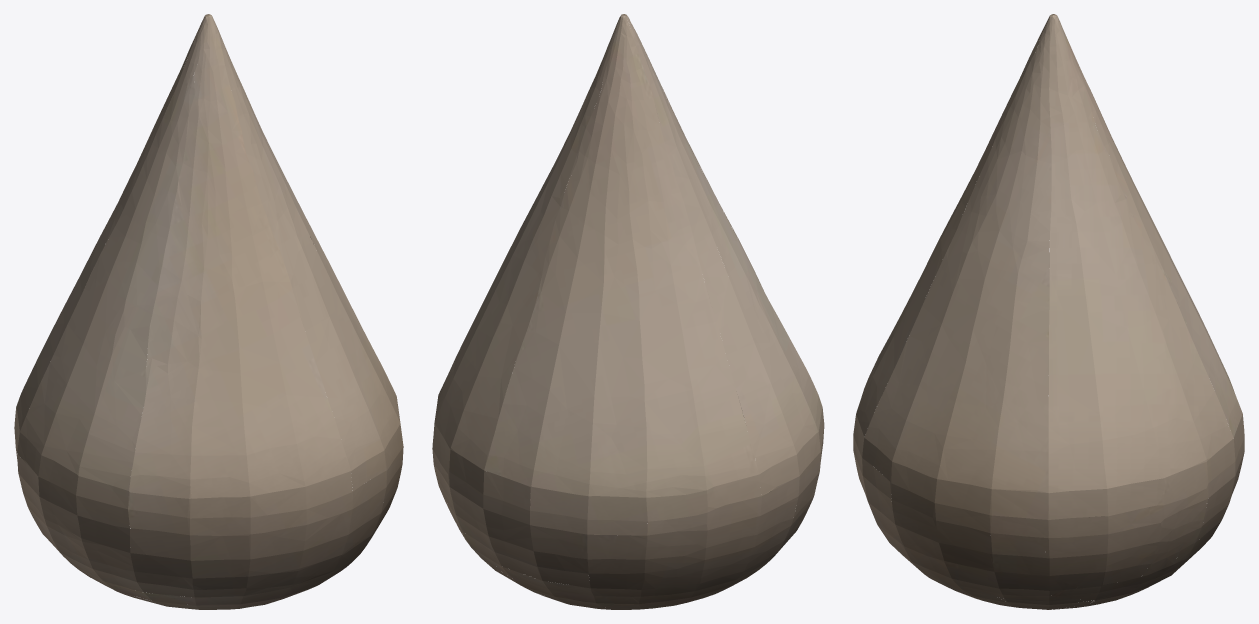
Rendered from vase-drop.glb.
The picture shows the model from 3 angles, left to right: view 1: azimuth 30°, elevation 25°; view 2: azimuth 150°, elevation 25°; view 3: azimuth 270°, elevation 25°; orthographic projection.
Visible parts, largest first — view 1: geometry_0; view 2: geometry_0; view 3: geometry_0.
Boxes of the visible parts, box(x1,y1,x2,y2) form: geometry_0: box(14, 14, 403, 609); geometry_0: box(432, 14, 824, 609); geometry_0: box(853, 14, 1244, 609).
Bounding box in the file's own units: 0.6365 × 1 × 0.6322.
1 material, 1 textured.
